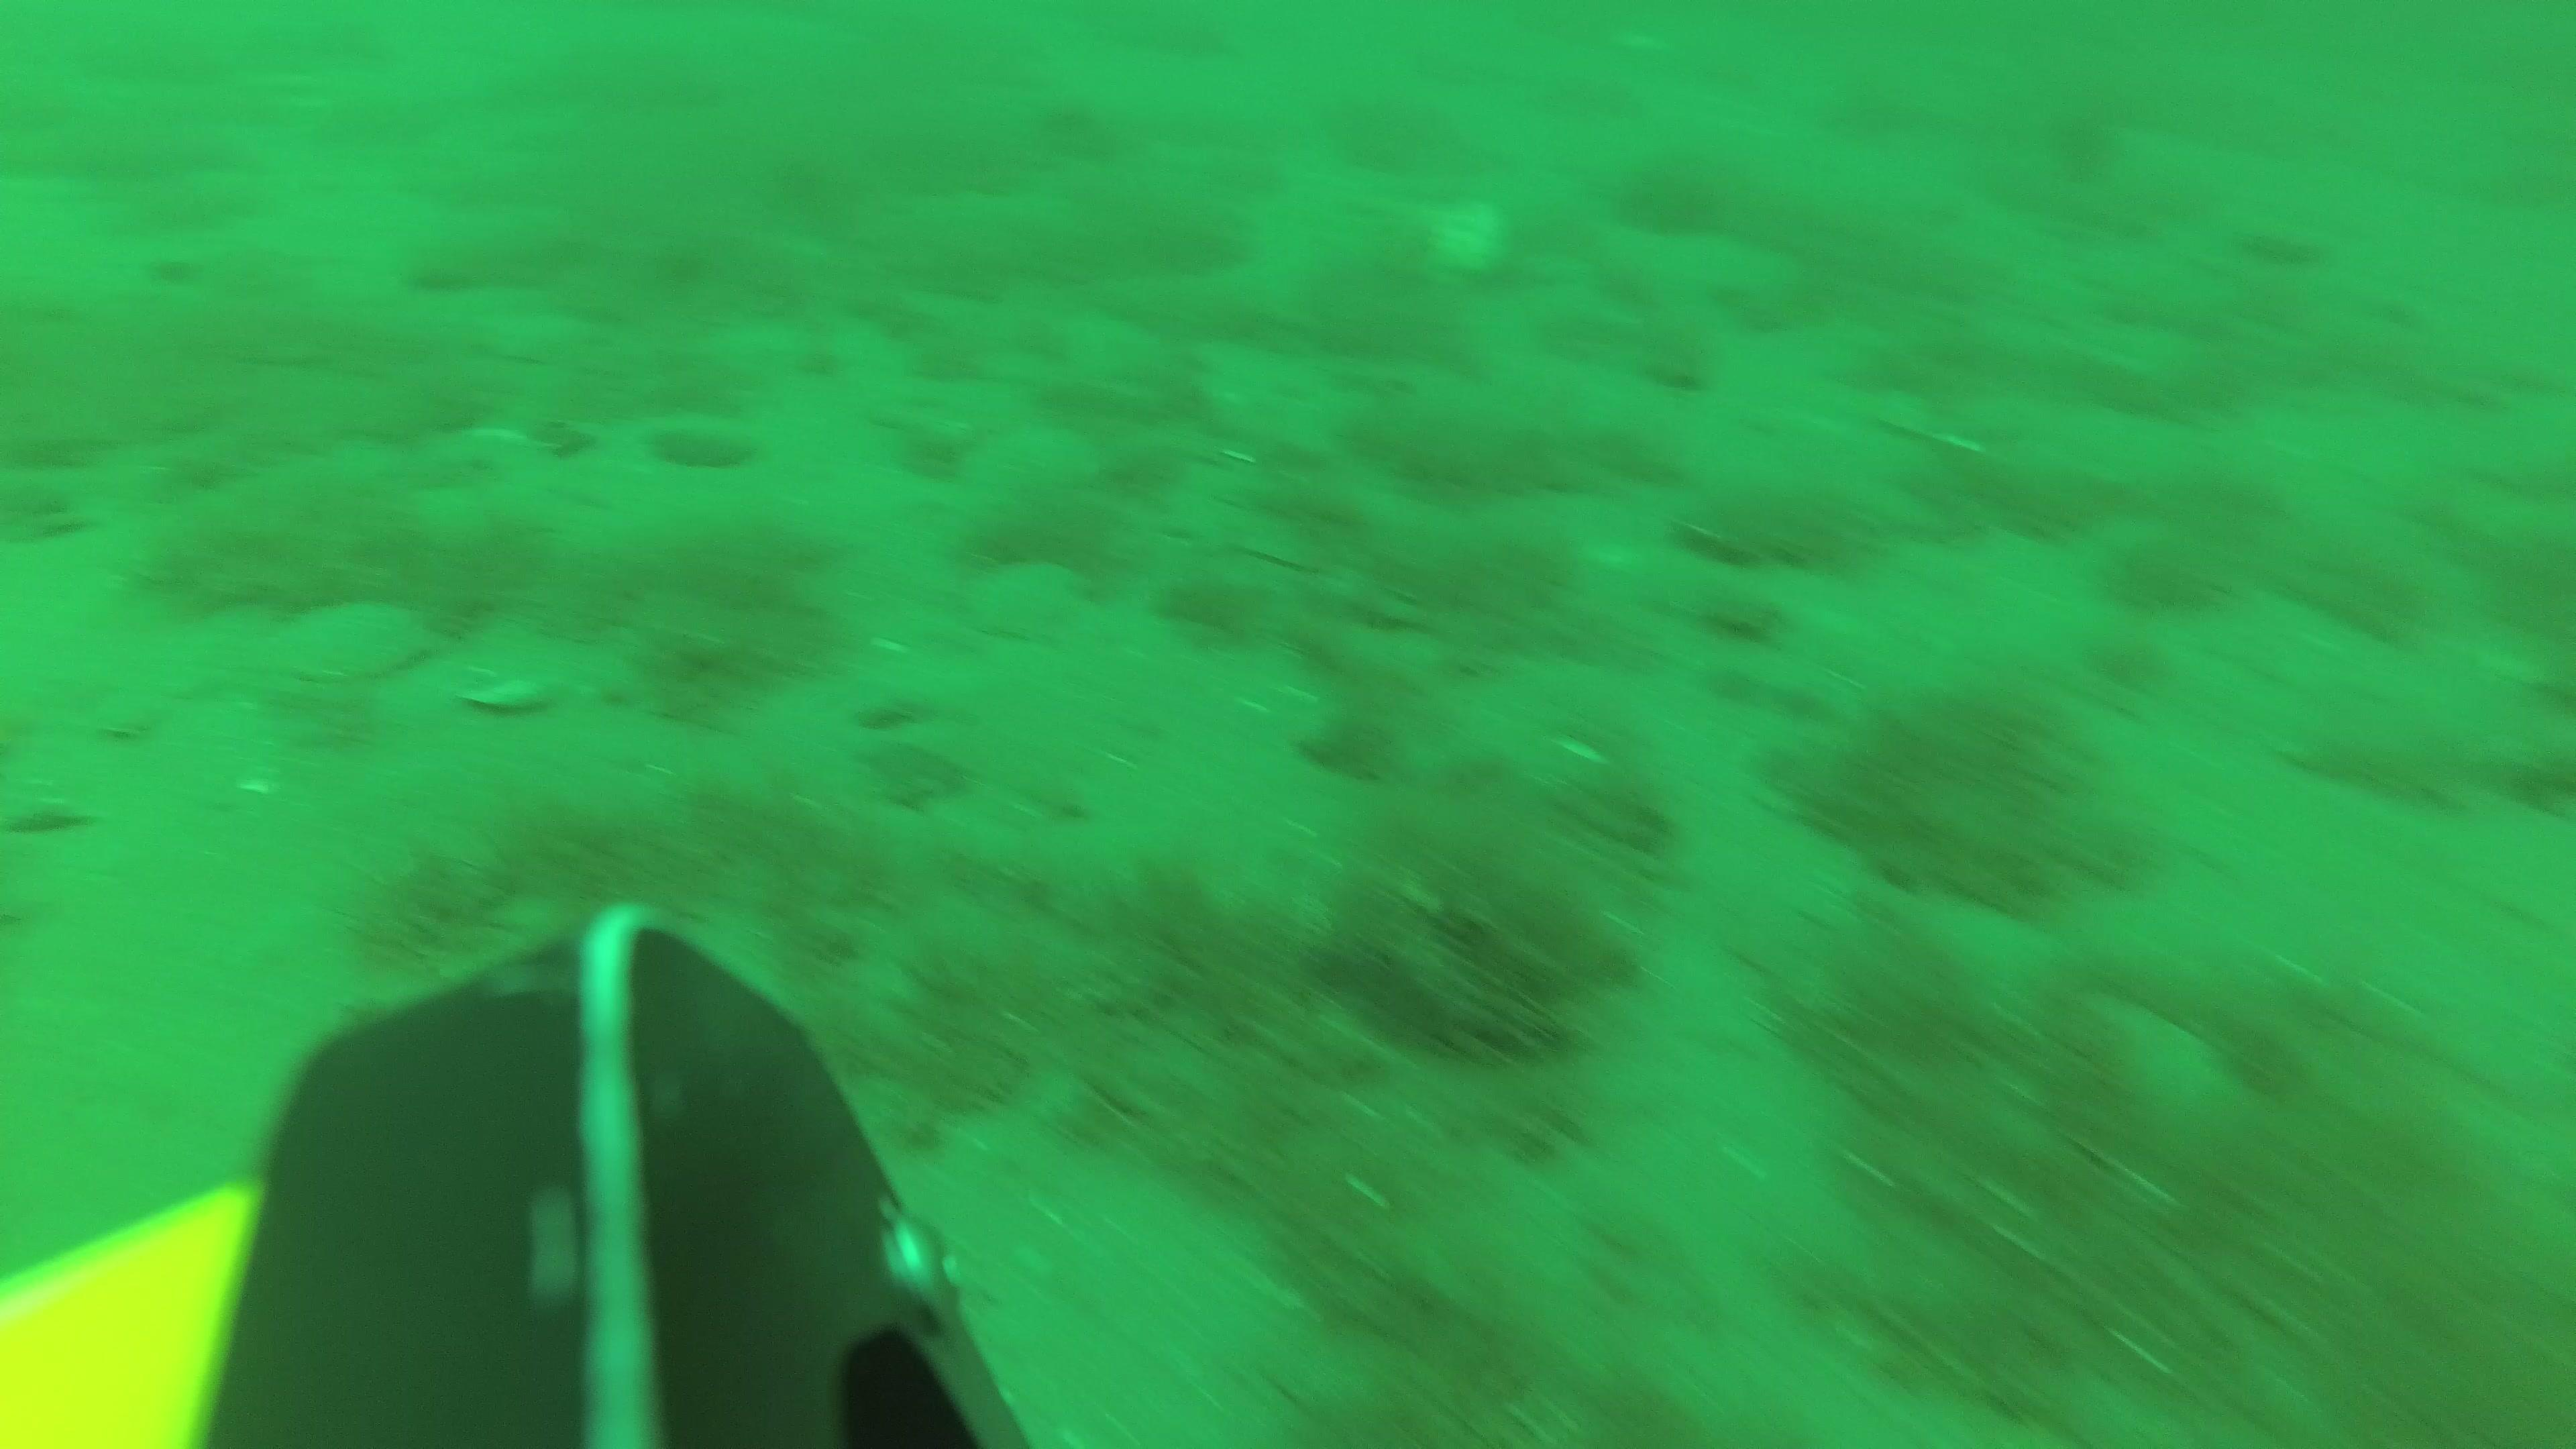scallop: (287, 596, 432, 692), (971, 557, 1093, 642), (1421, 203, 1507, 288)
